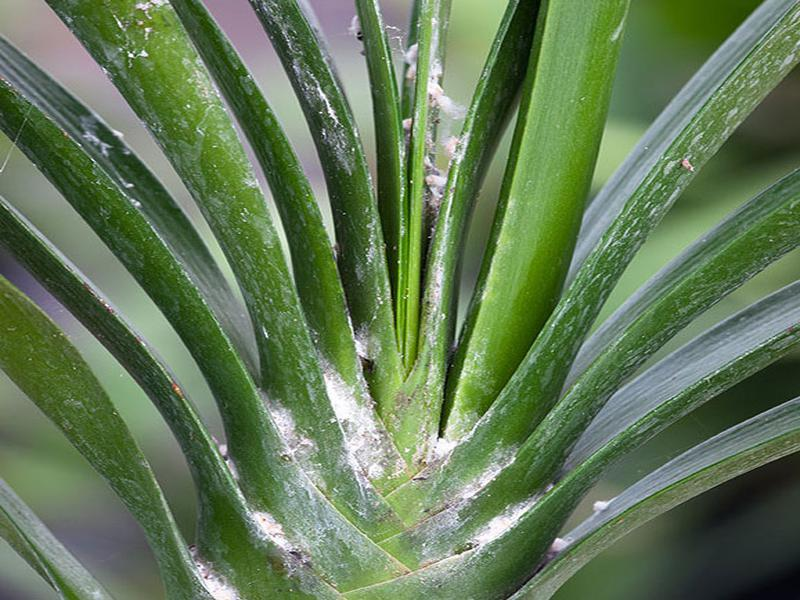Mealy_bug: (259, 351, 537, 581), (352, 14, 507, 254)
